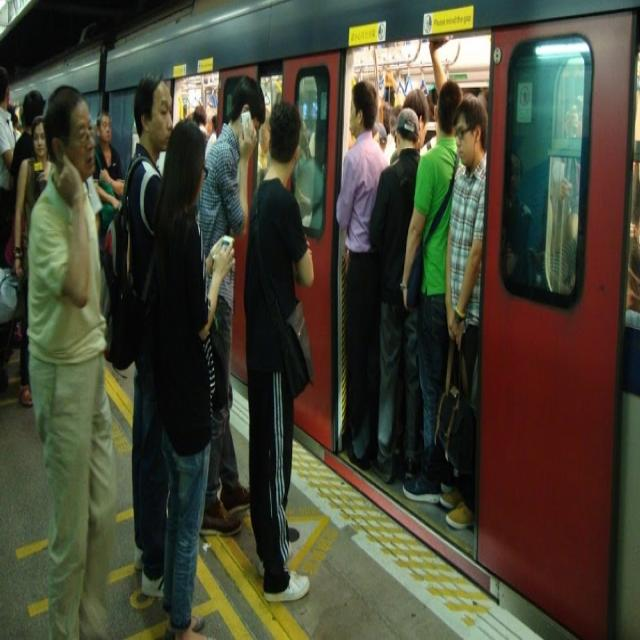body: (131, 110, 238, 639), (22, 81, 118, 639), (241, 97, 319, 608), (103, 70, 174, 598), (506, 58, 640, 314), (197, 74, 266, 534), (399, 75, 464, 505), (332, 72, 389, 478), (438, 91, 488, 533), (167, 97, 328, 230), (368, 105, 422, 487), (11, 113, 57, 411), (359, 67, 492, 146), (92, 108, 126, 269), (7, 87, 47, 206), (0, 65, 19, 270), (387, 84, 431, 165), (7, 74, 22, 156)
